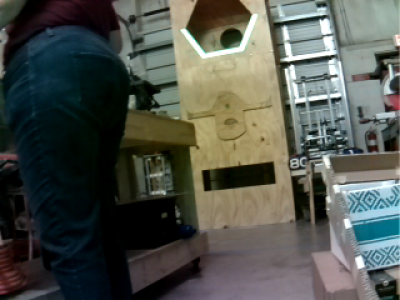target: (180, 13, 261, 59)
